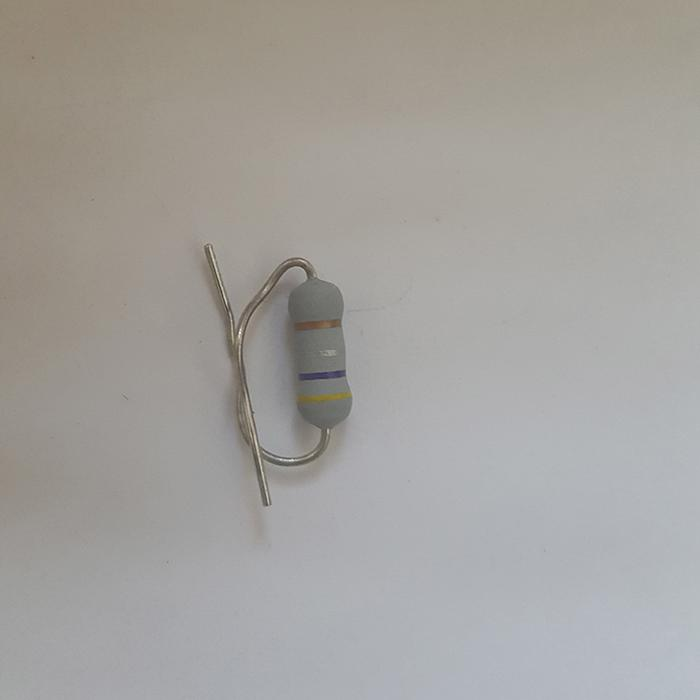resistor: (287, 275, 355, 430)
